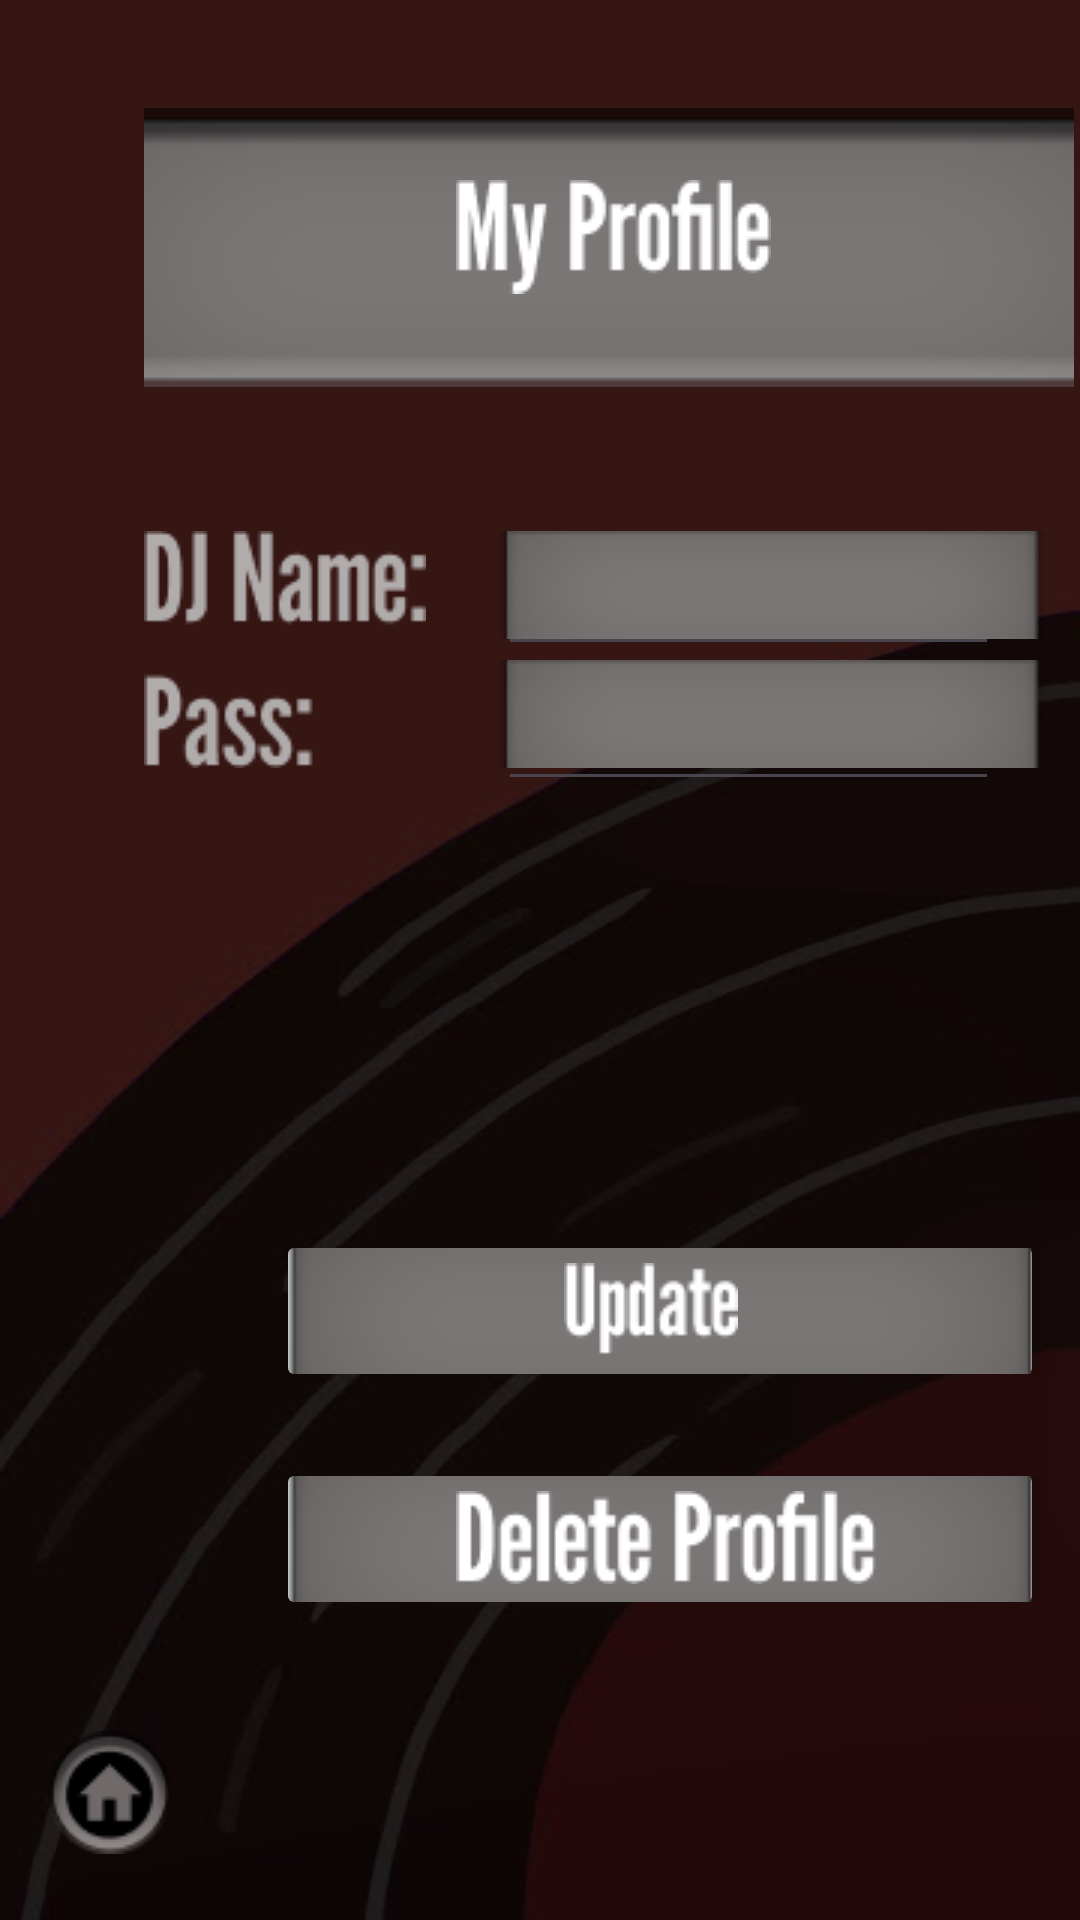

Named icons in this screenshot (1080×1920) and their centers, [x,y]:
home circle: [109,1795]
